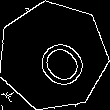O_NW: (20, 23, 87, 89)
